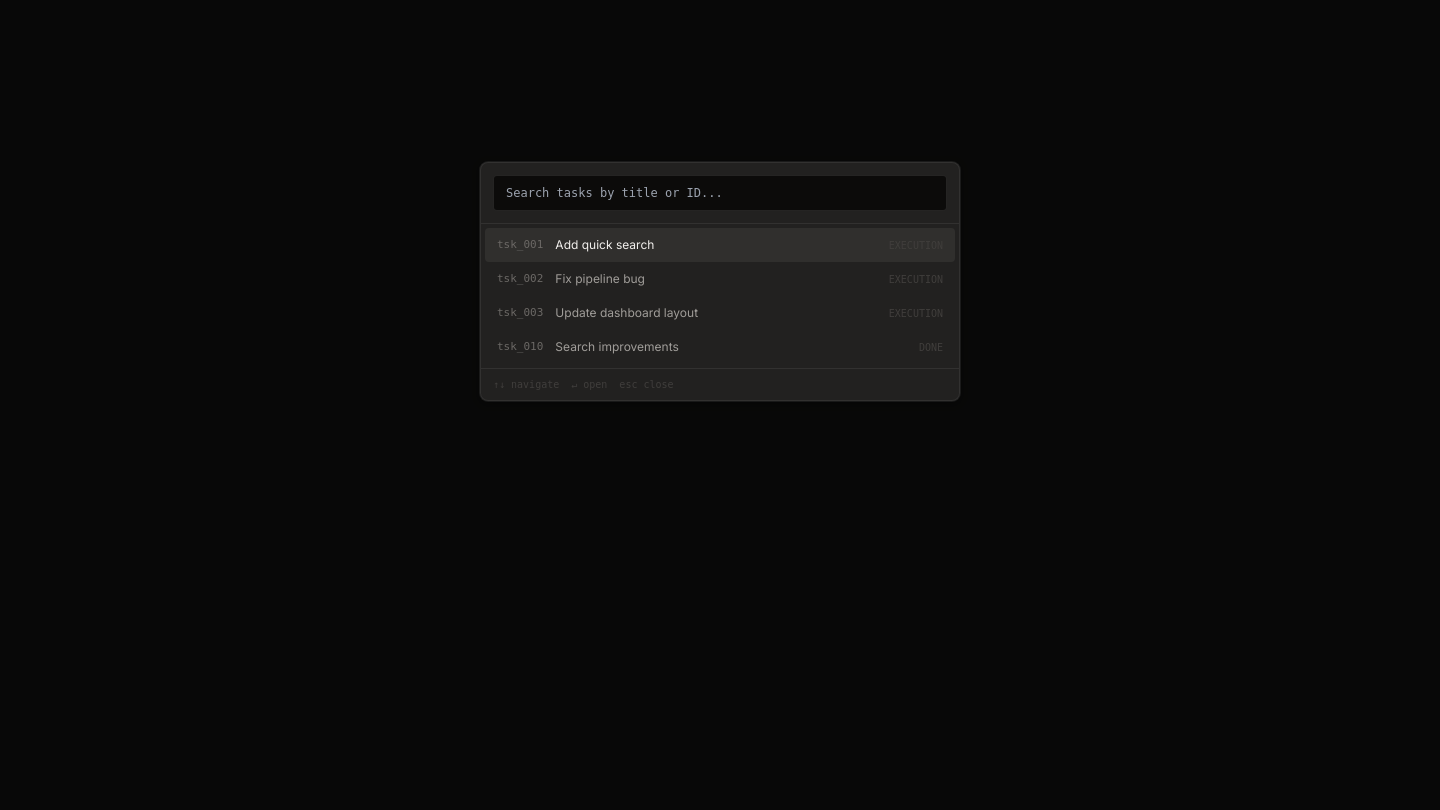
Test case: QuickSearch › filters by task ID (prefix match)
In the field with placeholder "Search tasks by title or ID...": point(720, 193) [493,175,947,211], type "tsk_01"
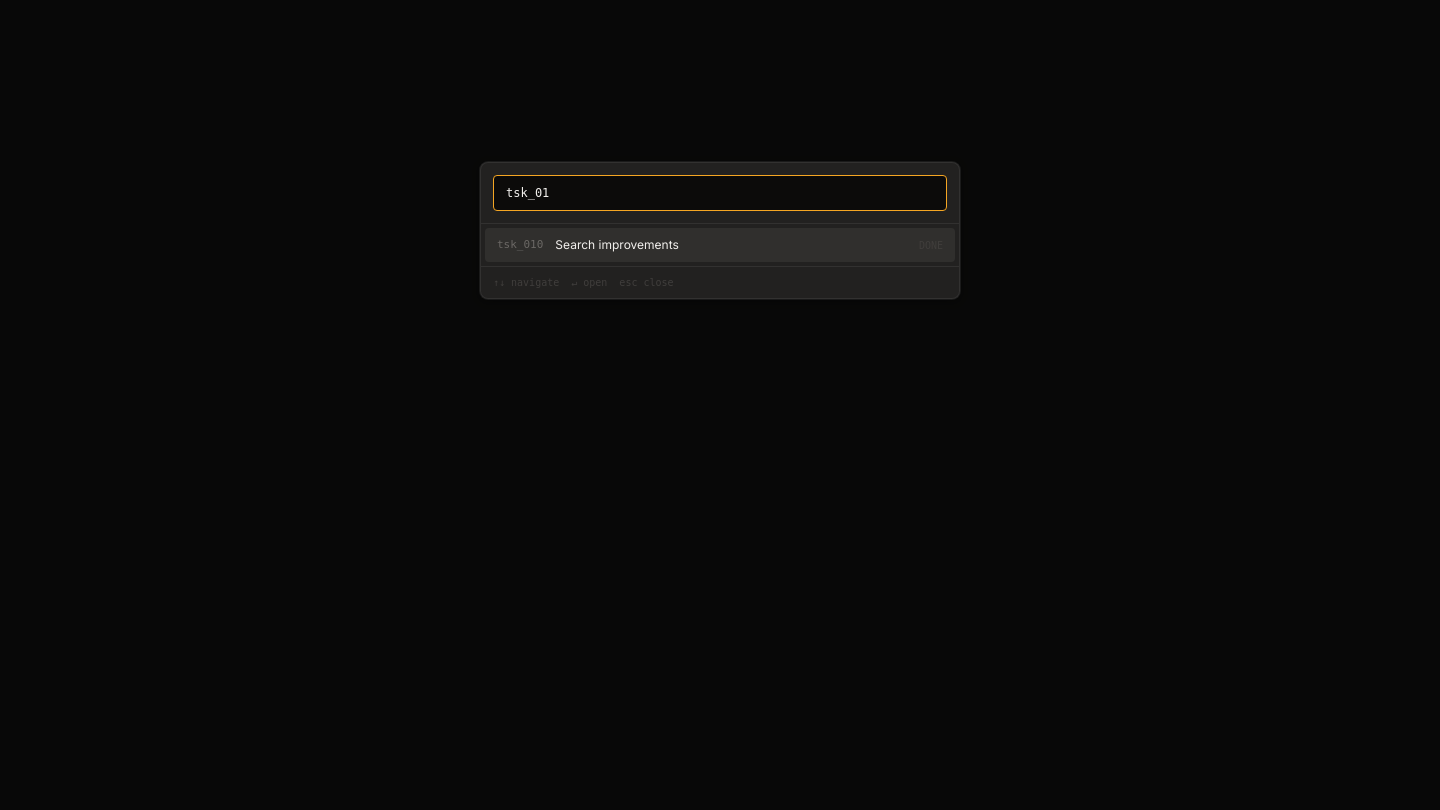
Expected: the text "Search improvements" is shown, [555,236,679,254]
Expected: the button "Fix pipeline bug" is gone
